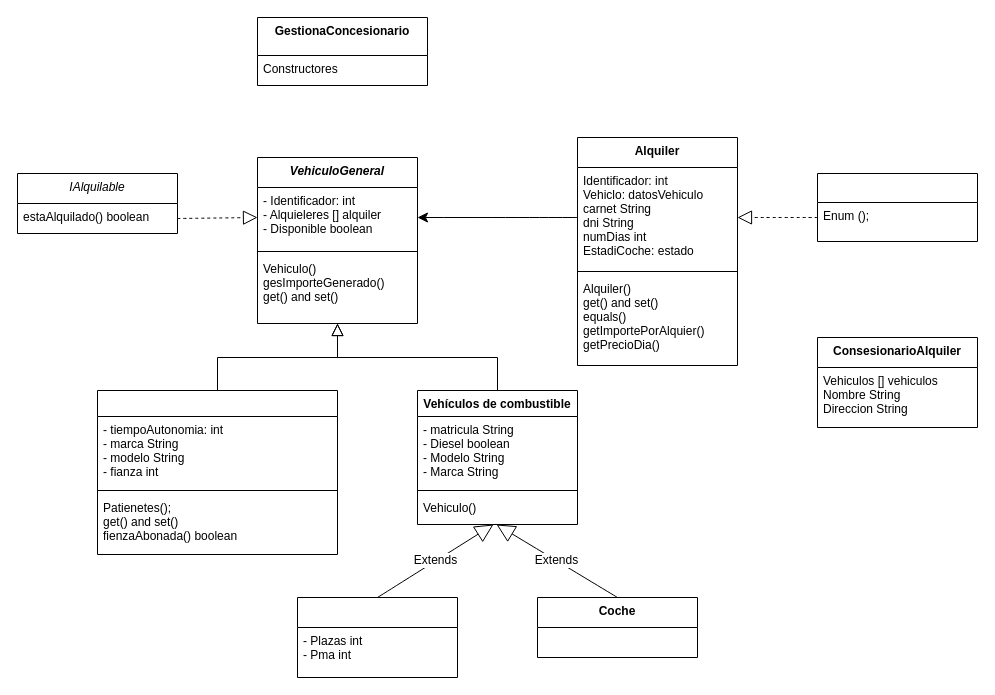
Image size: 995x695. Some labels were removed from this diagram. The box of each missing label's shape, as (x1, y1, x2, y2) in pixels:
Estado Coche: (816, 172, 978, 242)
Furgoneta: (296, 596, 458, 678)
Patinetes: (96, 390, 338, 554)
